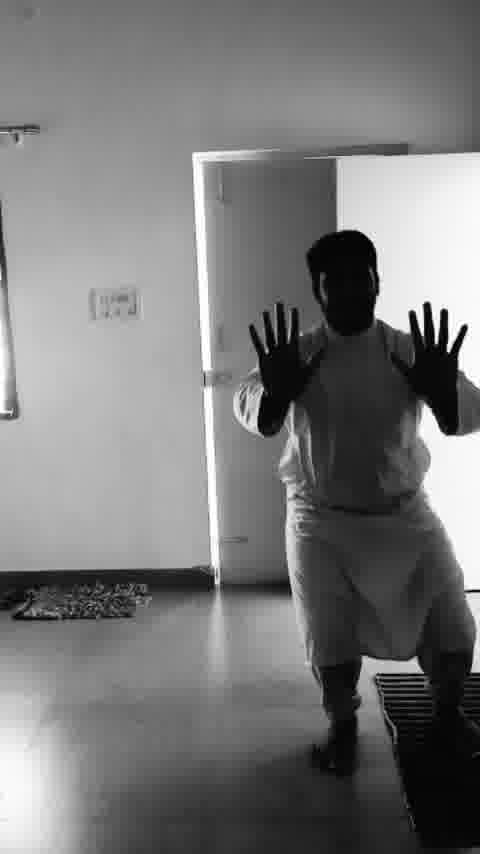duck: (235, 216, 480, 776)
